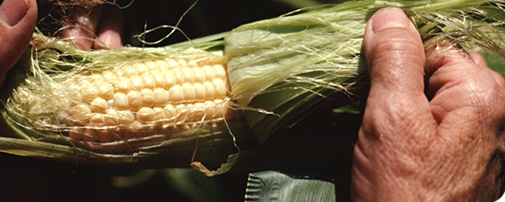corn: (0, 0, 504, 176)
